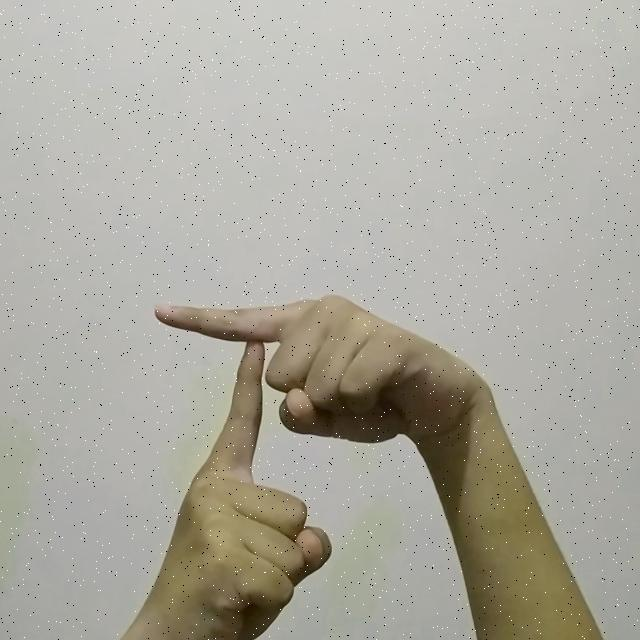T: (135, 280, 514, 624)
